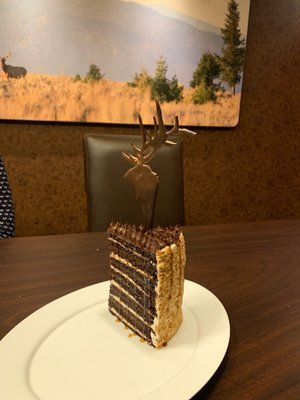curry: (0, 217, 300, 400)
pasta: (82, 133, 194, 234)
sushi: (106, 219, 187, 349)
